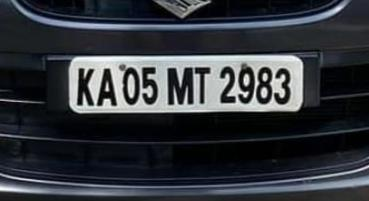0: (121, 64, 141, 106)
2: (219, 64, 238, 108)
3: (273, 62, 295, 108)
5: (140, 62, 161, 109)
8: (257, 66, 274, 108)
9: (238, 62, 256, 106)
A: (95, 65, 119, 109)
K: (74, 67, 94, 108)
M: (163, 62, 196, 109)
T: (195, 62, 213, 106)
